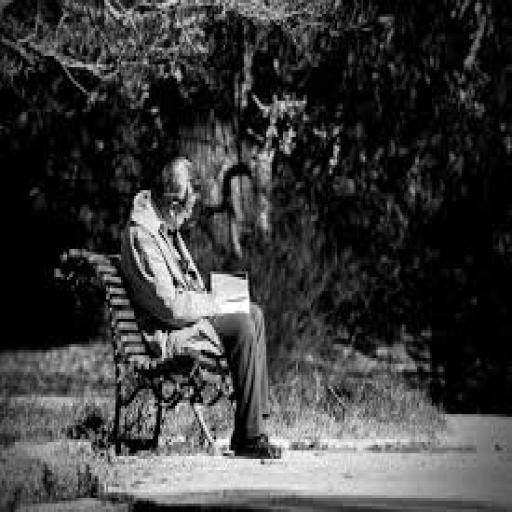sitting: (117, 151, 285, 462)
